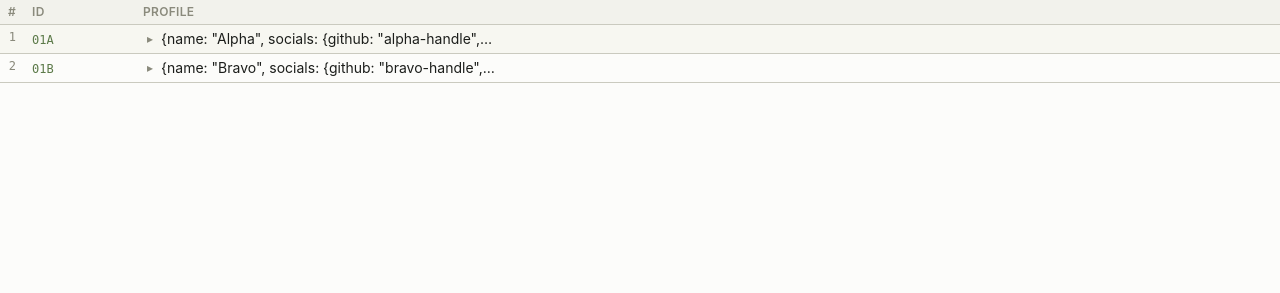
Scenario: expanding a cell in a different row shows only that row's sub-row
Click the button named "expand" at (150, 39), box [143,29,157,49]
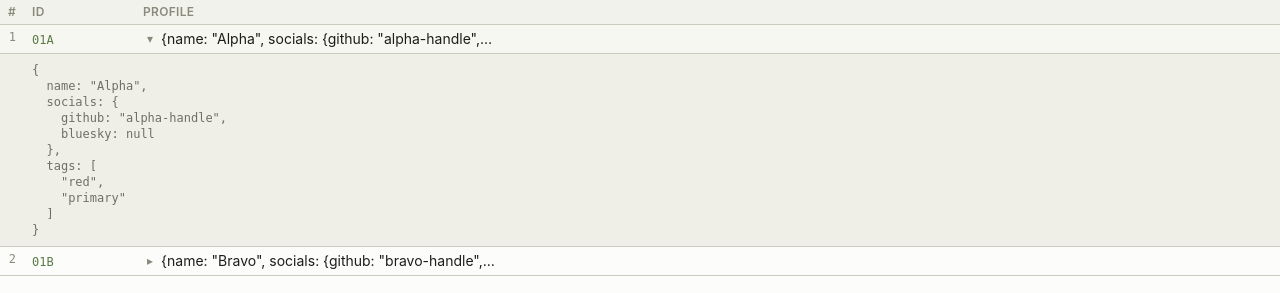
Click the button named "expand" at (150, 261), box [143,251,157,271]
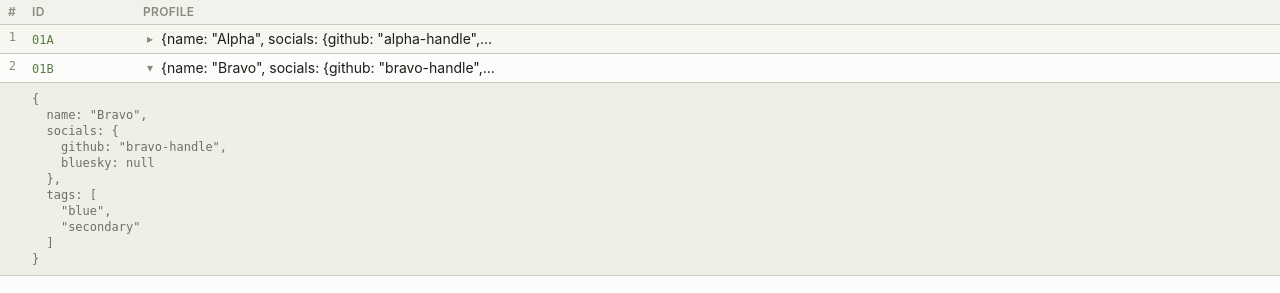
expect the text "Alpha" is not shown: met
expect the 7th cell shows "Bravo": met, box [32,92,227,266]
expect the 7th cell shows "bravo-handle": met, box [32,92,227,266]
